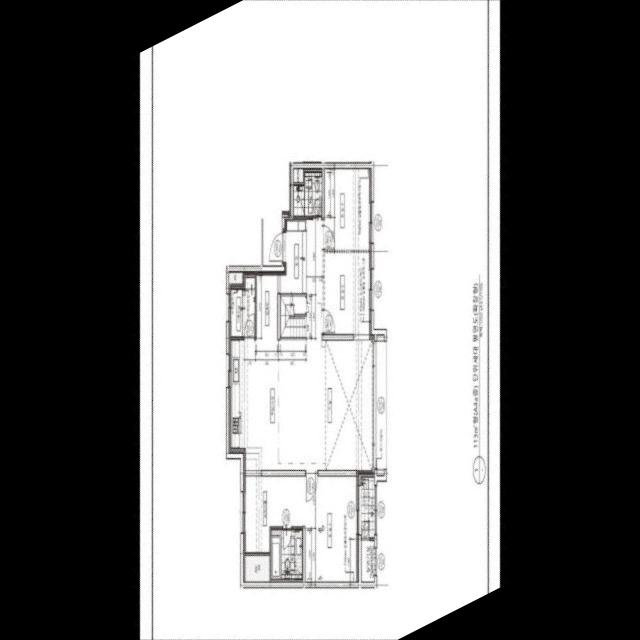background: (140, 0, 500, 640)
space_balconi: (361, 477, 374, 537)
space_bedroom: (305, 476, 358, 581), (325, 252, 371, 334), (325, 169, 371, 249)
space_dressroom: (243, 476, 305, 552)
space_front: (280, 219, 307, 293)
space_kitchen: (229, 339, 278, 470)
space_living_room: (277, 219, 374, 473)
space_multipurpose_space: (229, 277, 255, 336)
space_other: (257, 272, 278, 340), (243, 555, 270, 581), (229, 272, 244, 286), (294, 169, 303, 182)
space_outdoor_room: (361, 541, 374, 581)
space_staircase: (280, 296, 307, 336)
space_toilet: (271, 529, 302, 579), (294, 172, 322, 216)
